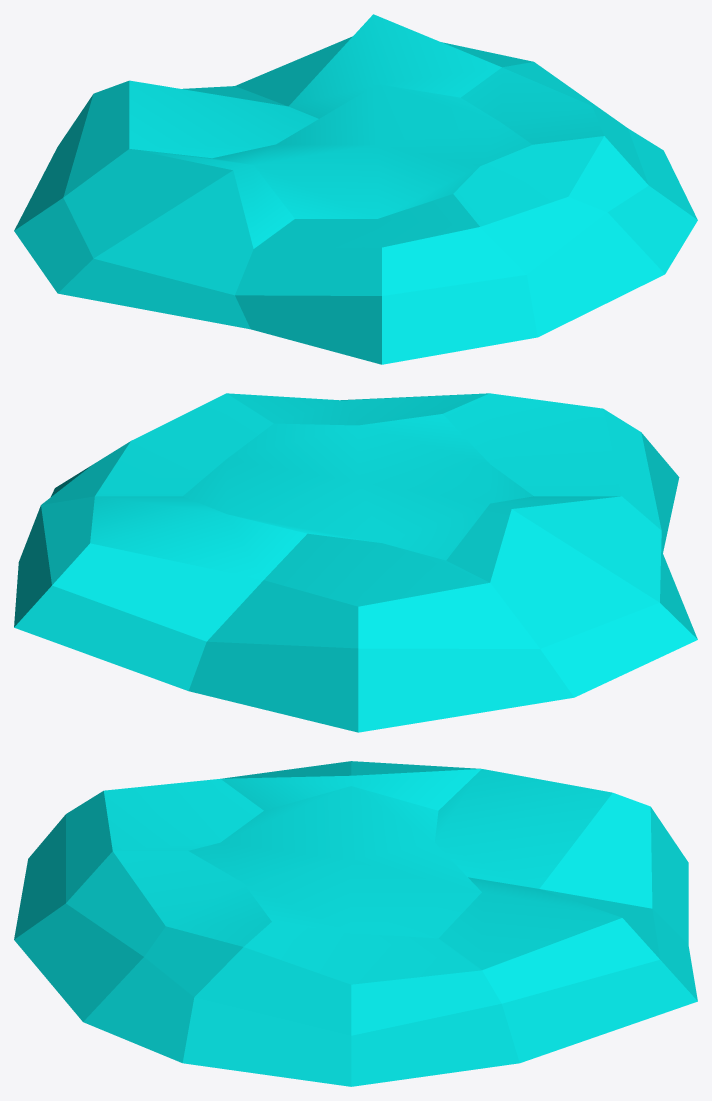
The model's file is GroundIcePadOG.fbx.
The picture shows the model from 3 angles, top to bottom: view 1: azimuth 30°, elevation 25°; view 2: azimuth 150°, elevation 25°; view 3: azimuth 270°, elevation 25°; orthographic projection. The views are drawn at different scales.
Visible parts, largest first — view 1: Ground1; view 2: Ground1; view 3: Ground1.
Boxes of the visible parts, box(x1,y1,x2,y2) form: Ground1: box(14, 14, 697, 364); Ground1: box(14, 393, 697, 732); Ground1: box(14, 761, 697, 1086).
Size of the model in its own units: 2.57 by 0.3688 by 2.39.
